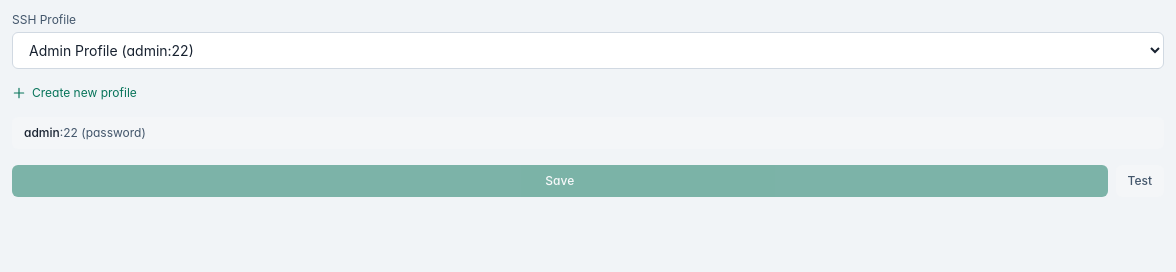
Scenario: SSHCredentialForm — SSH host-key mismatch recovery › resets test results and status messages when deviceId changes
What coordinates should you click on to do the following:
click the button "Test"
I would click on:
 (1140, 181)
Its box is [1116, 165, 1164, 197].
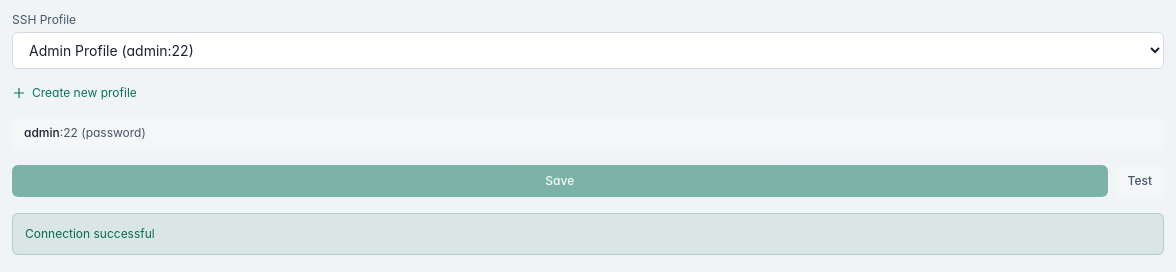
Check: the text "Connection successful" is shown, box [12, 213, 1164, 255]
